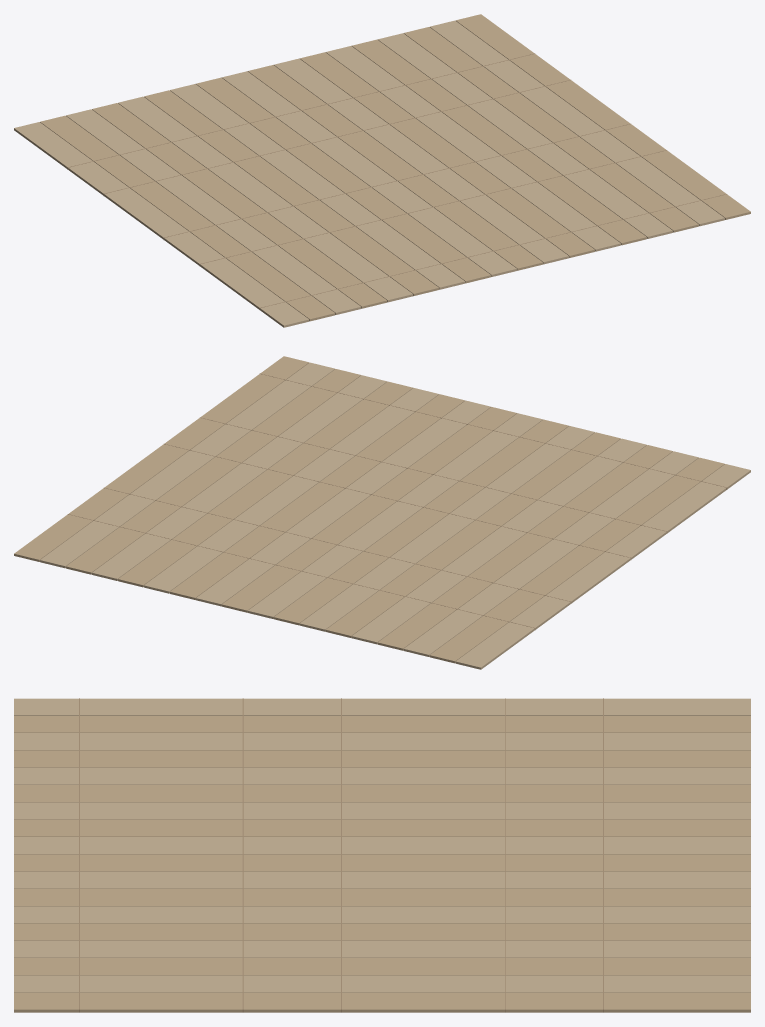
File: home_floor_boards_s1__oak.glb
3 renders of one model, top to bottom at view 1: azimuth 30°, elevation 25°; view 2: azimuth 150°, elevation 25°; view 3: azimuth 270°, elevation 25°, orthographic. The views are drawn at different scales.
Bounding box in the file's own units: 9 × 0.042 × 9.
